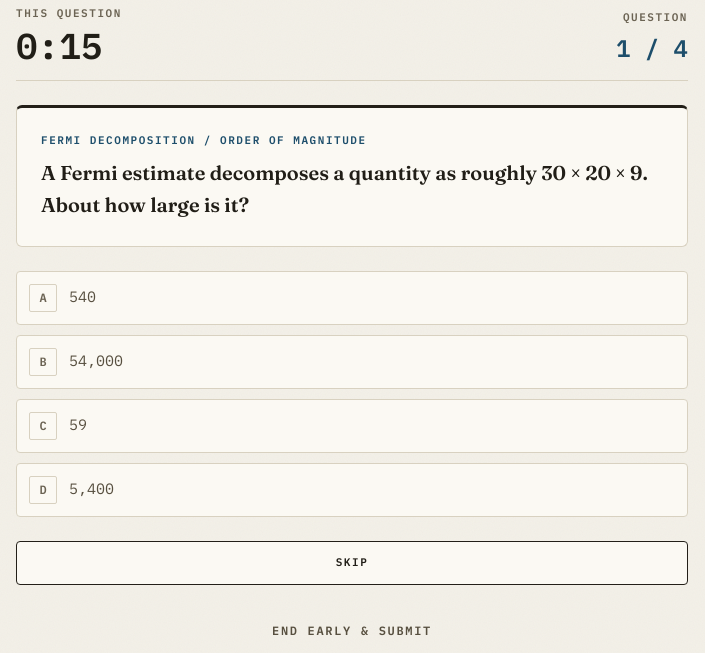
it: OaRunner — RAPID MIXED BATTERY (Citadel-style sprint) › renders a ~15s per-question countdown and a choice auto-advances
Check: the text "0:15" is shown, box [16,22,102,69]
Check: the text "1 / 4" is shown, box [616,32,688,64]
Note: Selecting a choice auto-advances (sprint), never going back.
Click the button "A 540" at {"x": 43, "y": 298}, box [16,270,688,324]
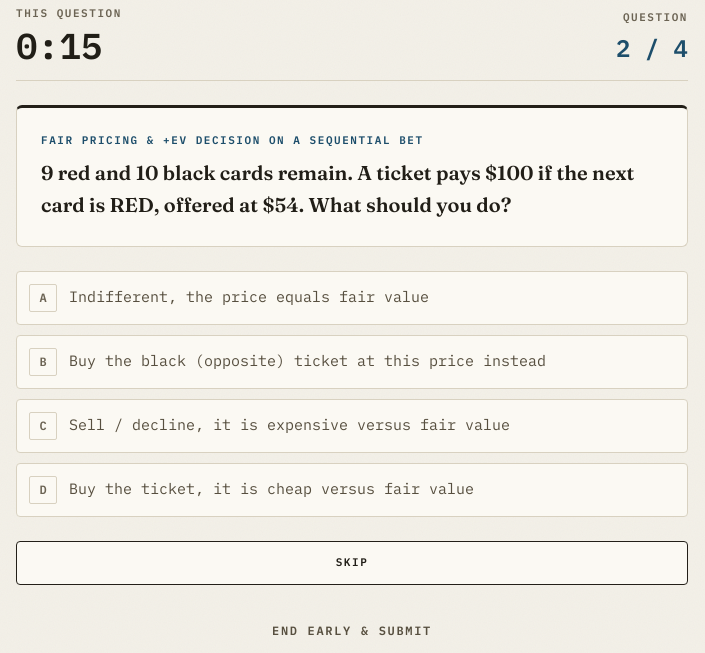
Check: the text "2 / 4" is shown, box [616,32,688,64]
